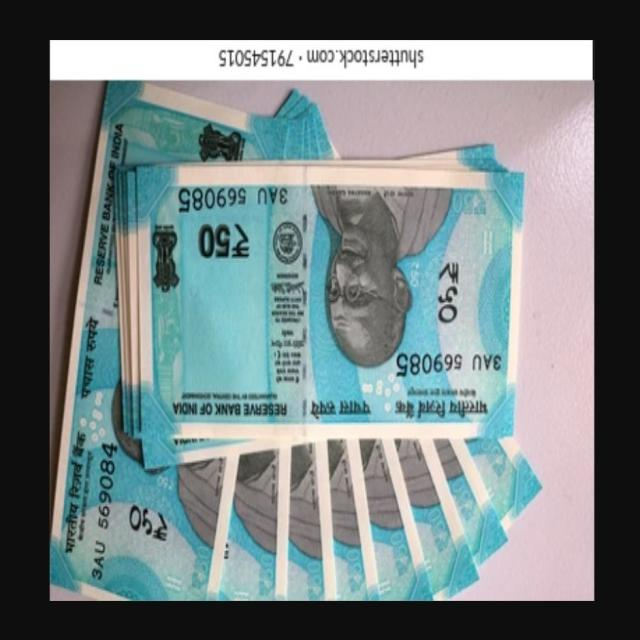50IndianRupees: (142, 168, 520, 431)
